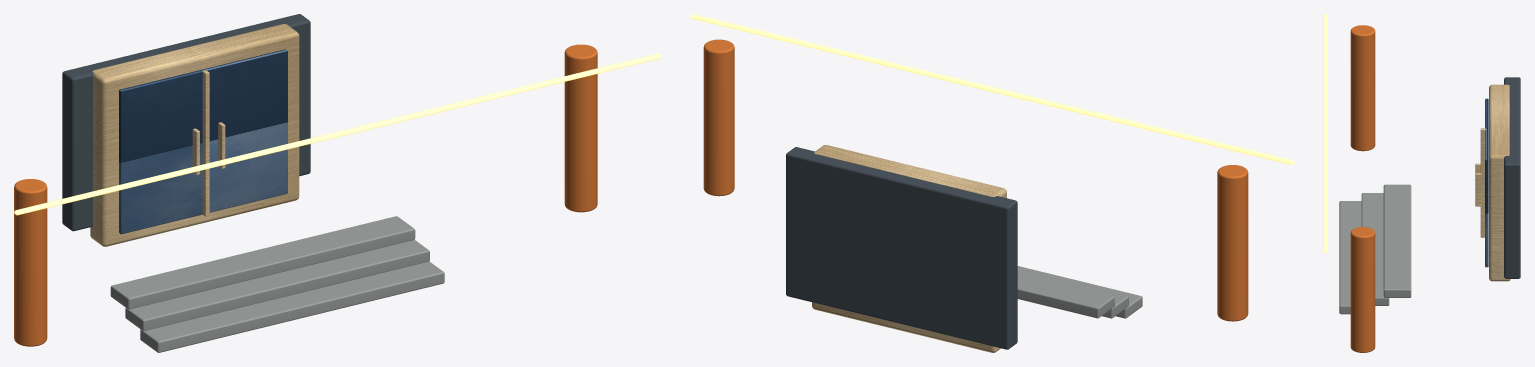
File: entrance.glb
3 views of the same model, side by side, from view 1: azimuth 30°, elevation 25°; view 2: azimuth 150°, elevation 25°; view 3: azimuth 270°, elevation 25° (orthographic). The views are drawn at different scales.
Visible parts, largest first — view 1: entrance; view 2: entrance; view 3: entrance.
Boxes of the visible parts, bbox=[...] form: entrance: bbox=[14, 14, 661, 352]; entrance: bbox=[690, 14, 1294, 352]; entrance: bbox=[1323, 14, 1520, 352].
Size of the model in its own units: 4.05 by 1.13 by 1.43.
6 materials, 2 textured.
